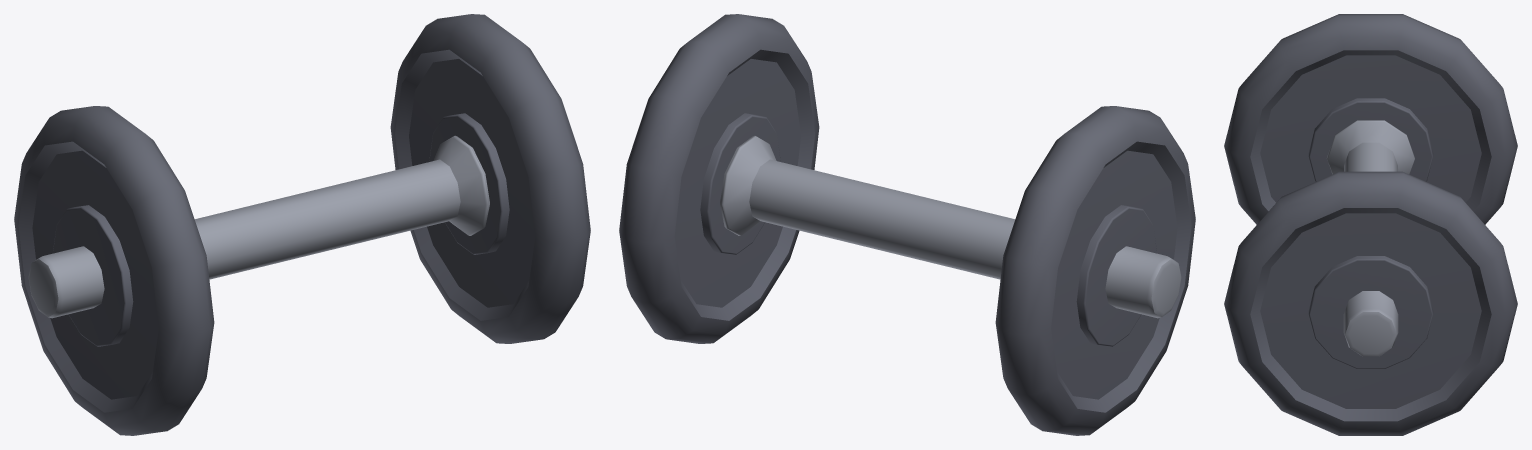
Rendered from Dumbbell_03.fbx.
3 renders of one model, left to right at view 1: azimuth 30°, elevation 25°; view 2: azimuth 150°, elevation 25°; view 3: azimuth 270°, elevation 25°, orthographic. The views are drawn at different scales.
Visible parts, largest first — view 1: Dumbbell_03; view 2: Dumbbell_03; view 3: Dumbbell_03.
Part boxes in pixels (x1=…): Dumbbell_03: x1=14, y1=14, x2=590, y2=435; Dumbbell_03: x1=619, y1=14, x2=1195, y2=435; Dumbbell_03: x1=1224, y1=14, x2=1517, y2=435.
Size of the model in its own units: 2.41 by 1.33 by 1.37.
Materials: 1 (1 with a texture image).
